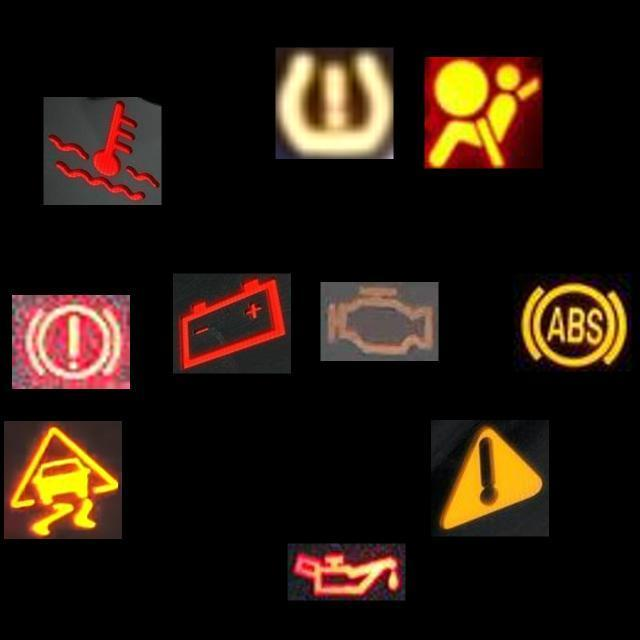Central Warning lamp: (431, 419, 549, 536)
Engine cooling system: (44, 97, 162, 205)
